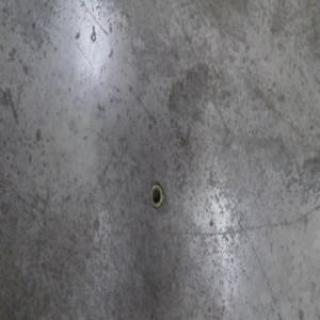Nuttrack_idkeyframe: (148, 181, 163, 210)
